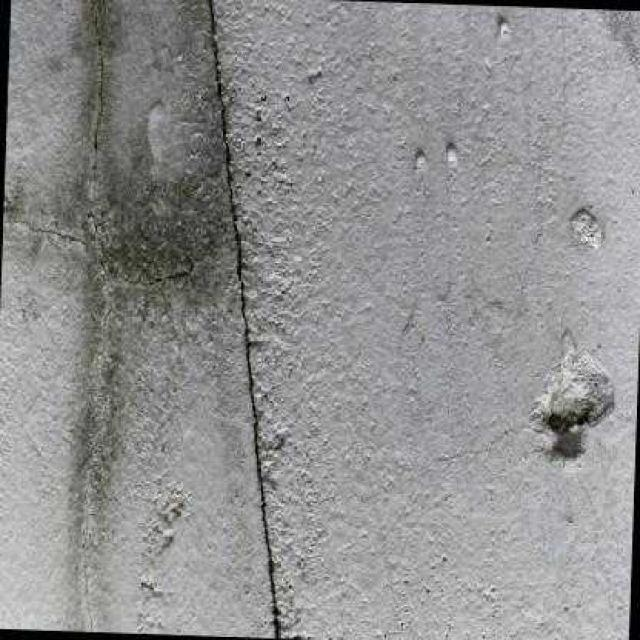D00: (5, 5, 115, 632), (207, 0, 284, 639), (100, 0, 106, 15)
